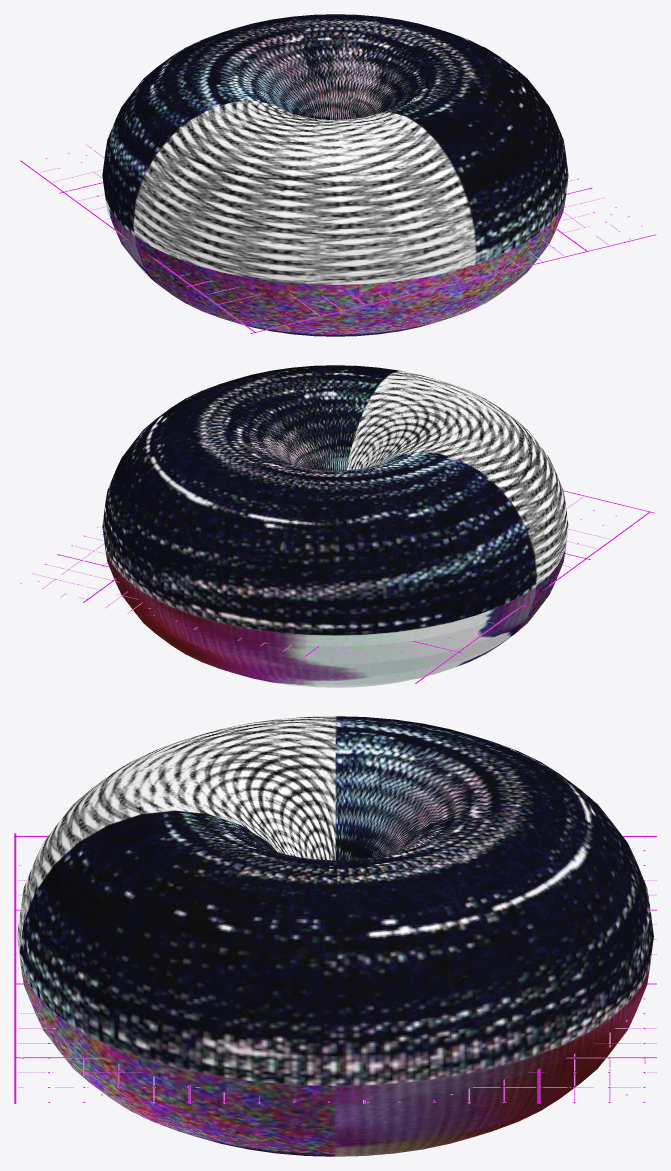
3 renders of one model, top to bottom at view 1: azimuth 30°, elevation 25°; view 2: azimuth 150°, elevation 25°; view 3: azimuth 270°, elevation 25°, orthographic. The views are drawn at different scales.
Parts seen in each view (by area): view 1: Torus, floor; view 2: Torus, floor; view 3: Torus, floor.
Part boxes in pixels (box(x1,y1,x2,y2)): Torus: box(102, 14, 568, 336); floor: box(20, 144, 656, 333); Torus: box(102, 365, 568, 687); floor: box(20, 490, 654, 683); Torus: box(17, 716, 653, 1156); floor: box(14, 833, 656, 1103).
Size of what is drawn, in the model's own units: 31.81 by 14.67 by 31.81.
2 materials, 2 textured.
